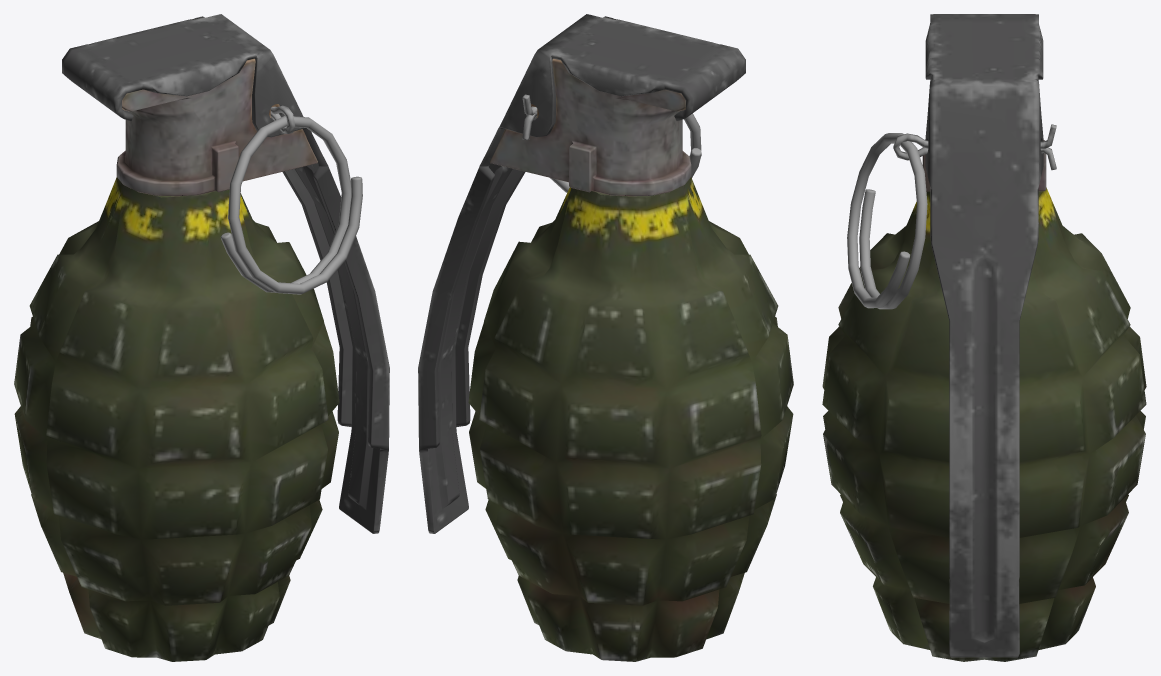
The model's file is mk2_grenade.gltf.
3 renders of one model, left to right at view 1: azimuth 30°, elevation 25°; view 2: azimuth 150°, elevation 25°; view 3: azimuth 270°, elevation 25°, orthographic.
Visible parts, largest first — view 1: mk2_grenade; view 2: mk2_grenade; view 3: mk2_grenade.
Part boxes in pixels (x1,y1,x2,y2): mk2_grenade: [14, 14, 389, 661]; mk2_grenade: [418, 14, 793, 661]; mk2_grenade: [822, 14, 1146, 661].
Size of the model in its own units: 0.0855 by 0.1401 by 0.0716.
Materials: 1 (1 with a texture image).
